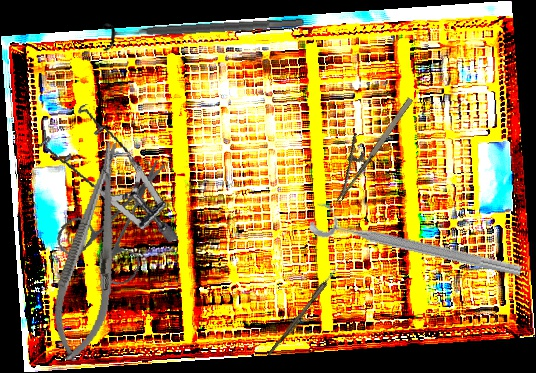Fixation Ring: (307, 199, 527, 283), (101, 6, 305, 53)
Iris Scissors: (45, 158, 187, 294)
Needle Holder: (43, 137, 141, 366), (316, 84, 416, 204)
Speculum: (32, 92, 179, 263)
Surgical Spoon: (267, 254, 348, 358)
